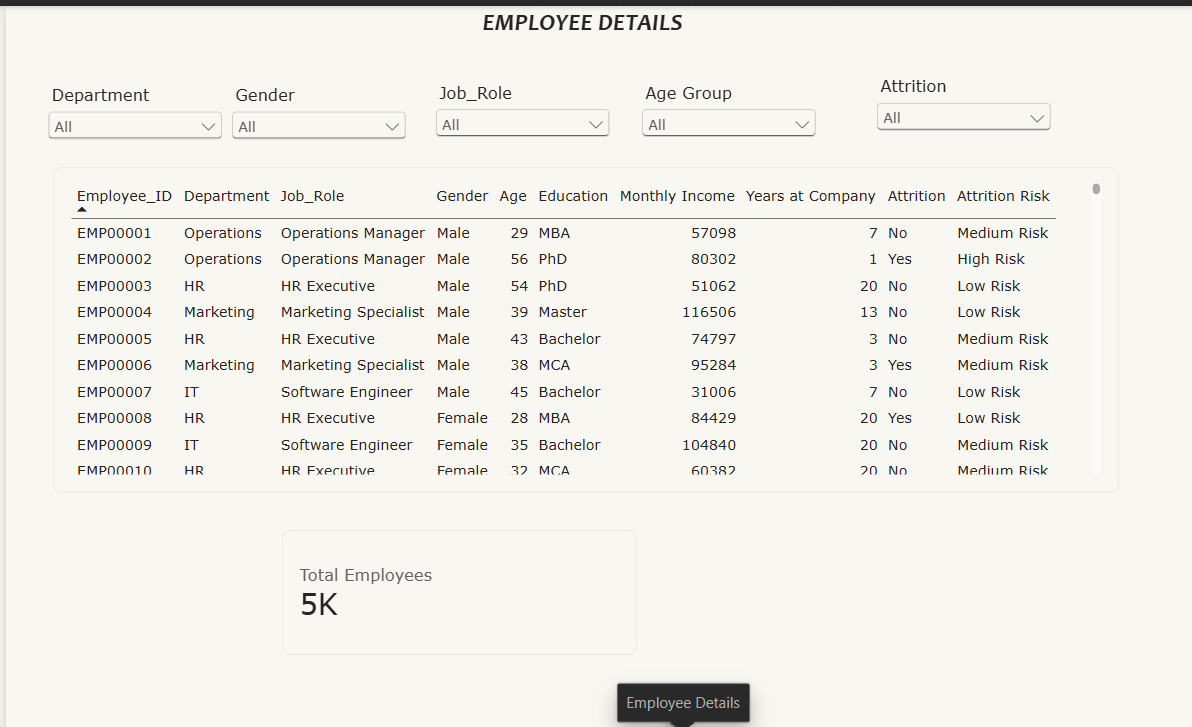

This screenshot's page, from the dashboard's own definition file:
{"tool":"powerbi","page":{"name":"Employee Details","canvas":[1280,720],"ordinal":3},"visuals":[{"type":"slicer","fields":{"Values":["hr_employees.Department"]},"box":[37.3,77.1,180,70],"z":0},{"type":"slicer","fields":{"Values":["hr_employees.Gender"]},"box":[217.7,77.1,180,70],"z":1000},{"type":"slicer","fields":{"Values":["hr_employees.Job_Role"]},"box":[416.7,74.6,180,70],"z":2000},{"type":"slicer","fields":{"Values":["hr_employees.Age Group"]},"box":[619.5,74.6,180,70],"z":3000},{"type":"slicer","fields":{"Values":["hr_employees.Attrition"]},"box":[850.9,68.4,180,70],"z":4000},{"type":"tableEx","fields":{"Values":["hr_employees.Employee_ID","hr_employees.Department","hr_employees.Job_Role","hr_employees.Gender","Sum(hr_employees.Age)","hr_employees.Education","Sum(hr_employees.Monthly_Income)","Sum(hr_employees.Years_at_Company)","hr_employees.Attrition","hr_employees.Attrition Risk"]},"box":[46.6,158.3,1045.4,319],"z":5000},{"type":"cardVisual","fields":{"Data":["hr_employees.Total Employees"]},"box":[271.2,513.8,348.3,123.2],"z":6000},{"type":"textbox","box":[0,0,1132,59.7],"z":6001}]}

Visuals, with their boxes on the page's 1280x720 design canvas (x1, y1, x2, y2). These are canvas units, not pixel positions in the 1192x727 screenshot, which may show the page scaled, cropped or inside an application window:
slicer - hr_employees.Department: Rect(37, 77, 217, 147)
slicer - hr_employees.Gender: Rect(218, 77, 398, 147)
slicer - hr_employees.Job_Role: Rect(417, 75, 597, 145)
slicer - hr_employees.Age Group: Rect(620, 75, 800, 145)
slicer - hr_employees.Attrition: Rect(851, 68, 1031, 138)
tableEx - hr_employees.Employee_ID x hr_employees.Department: Rect(47, 158, 1092, 477)
cardVisual - hr_employees.Total Employees: Rect(271, 514, 620, 637)
textbox: Rect(0, 0, 1132, 60)
